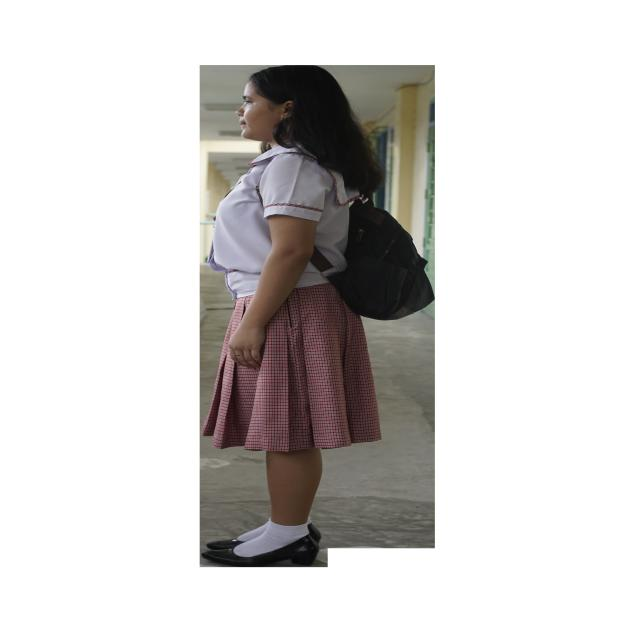pologirl: (211, 147, 356, 298)
shoes: (201, 534, 319, 567)
skirt: (201, 284, 381, 452)
